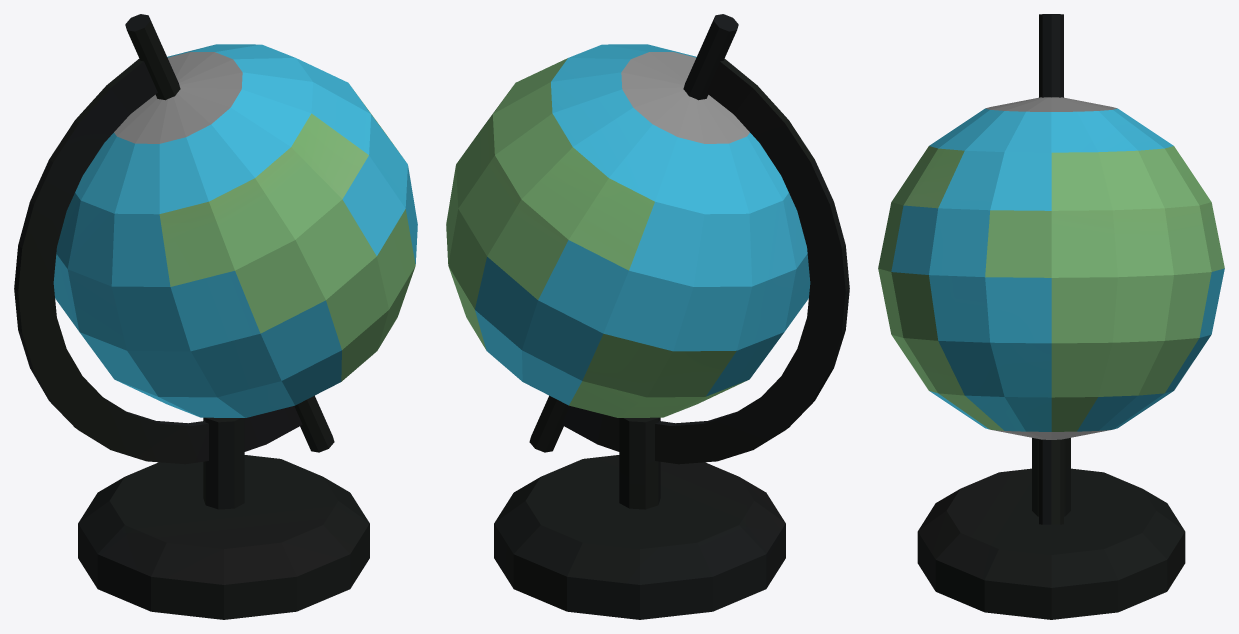
File: idiomas.glb
The picture shows the model from 3 angles, left to right: view 1: azimuth 30°, elevation 25°; view 2: azimuth 150°, elevation 25°; view 3: azimuth 270°, elevation 25°; orthographic projection. The views are drawn at different scales.
Visible parts, largest first — view 1: Globe; view 2: Globe; view 3: Globe.
Part boxes in pixels (x1=…): Globe: x1=14, y1=14, x2=417, y2=619; Globe: x1=446, y1=14, x2=849, y2=619; Globe: x1=878, y1=14, x2=1224, y2=619.
Size of the model in its own units: 0.1981 by 0.2805 by 0.1713.
Materials: 1 (1 with a texture image).
